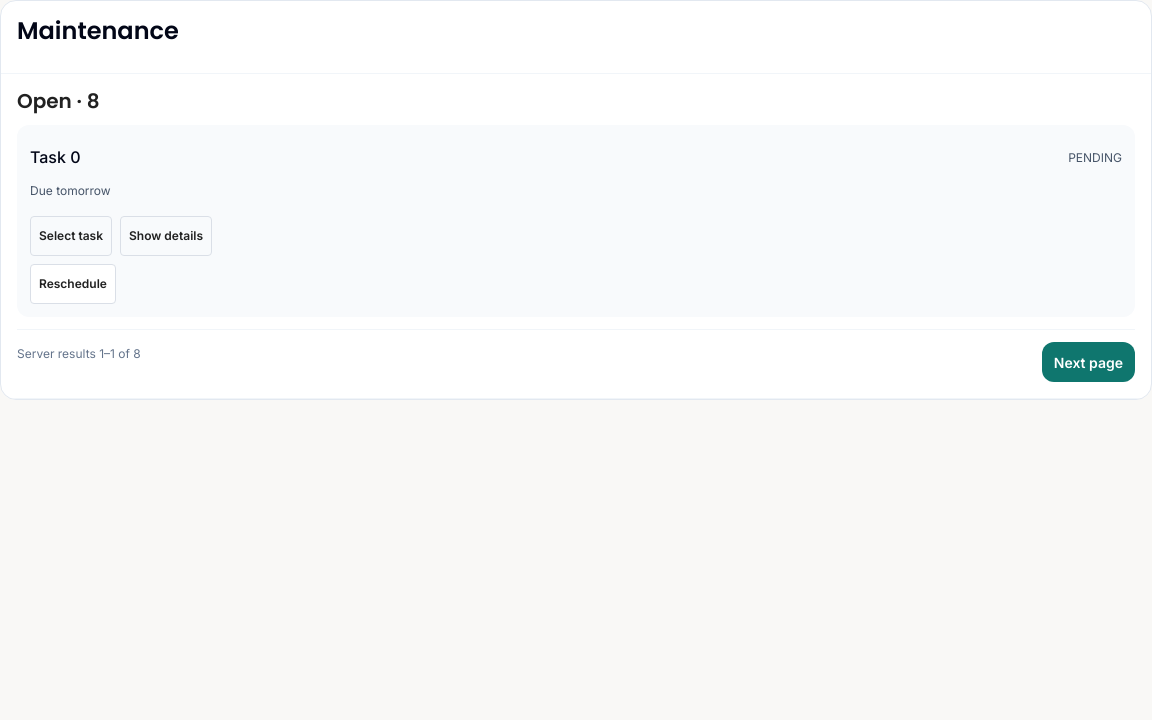
Scenario: task actions review, confirm, and show their receipt without leaving the workspace
Click the button "Task 0".
click(55, 158)  # box left=30, top=138, right=80, bottom=178
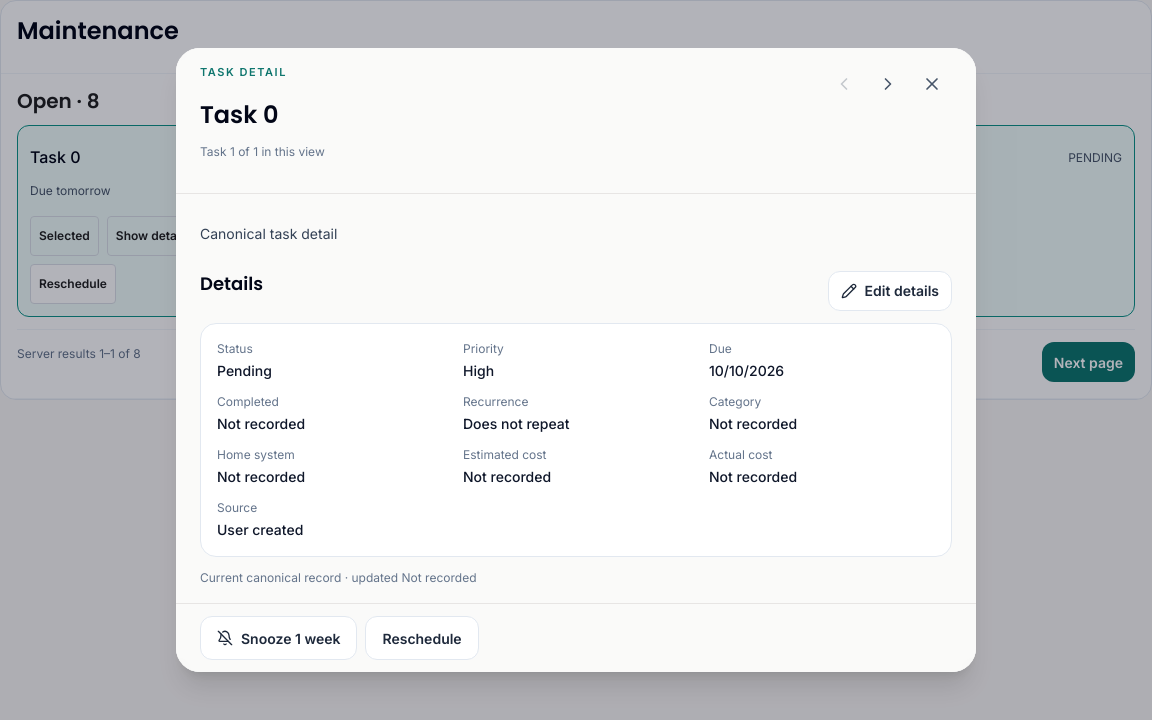
Now the button "Snooze 1 week" is shown
Click the button "Snooze 1 week".
click(279, 638)  # box left=200, top=616, right=358, bottom=660
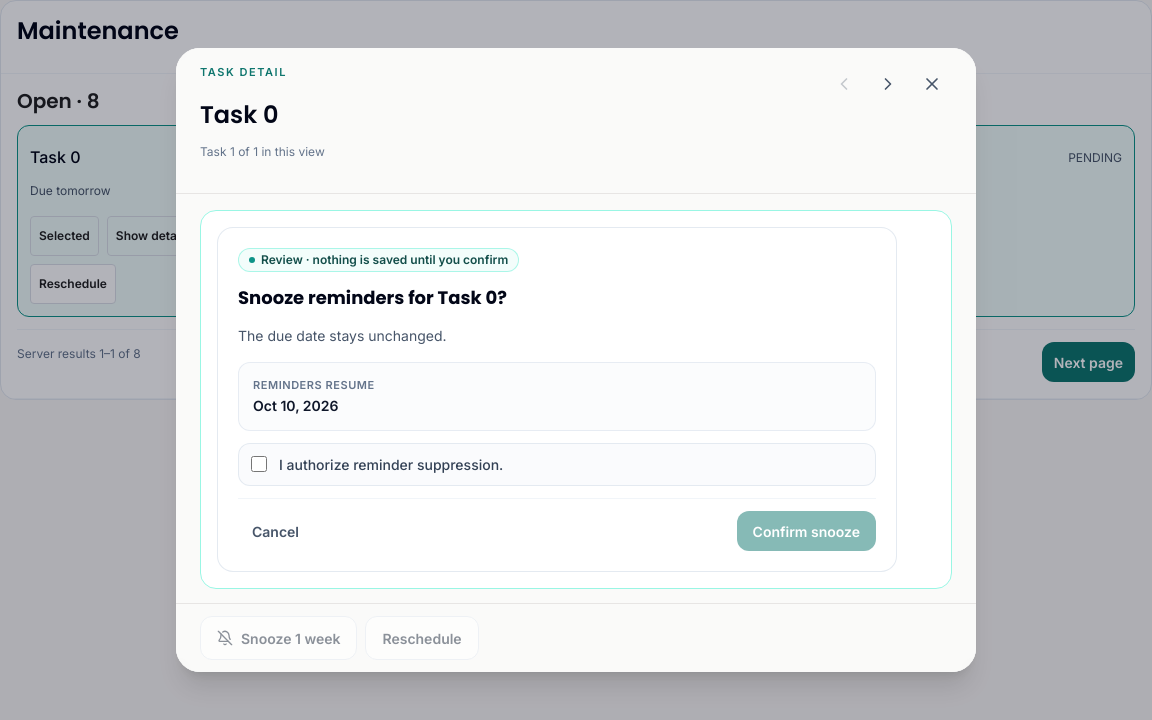
Now the dialog named "Task detail: Task 0" is shown
Now the heading "Snooze reminders for Task 0?" is shown, box left=238, top=285, right=507, bottom=310
Click the checkbox labelled "I authorize reminder suppression.".
click(259, 464)  # box left=251, top=456, right=267, bottom=472
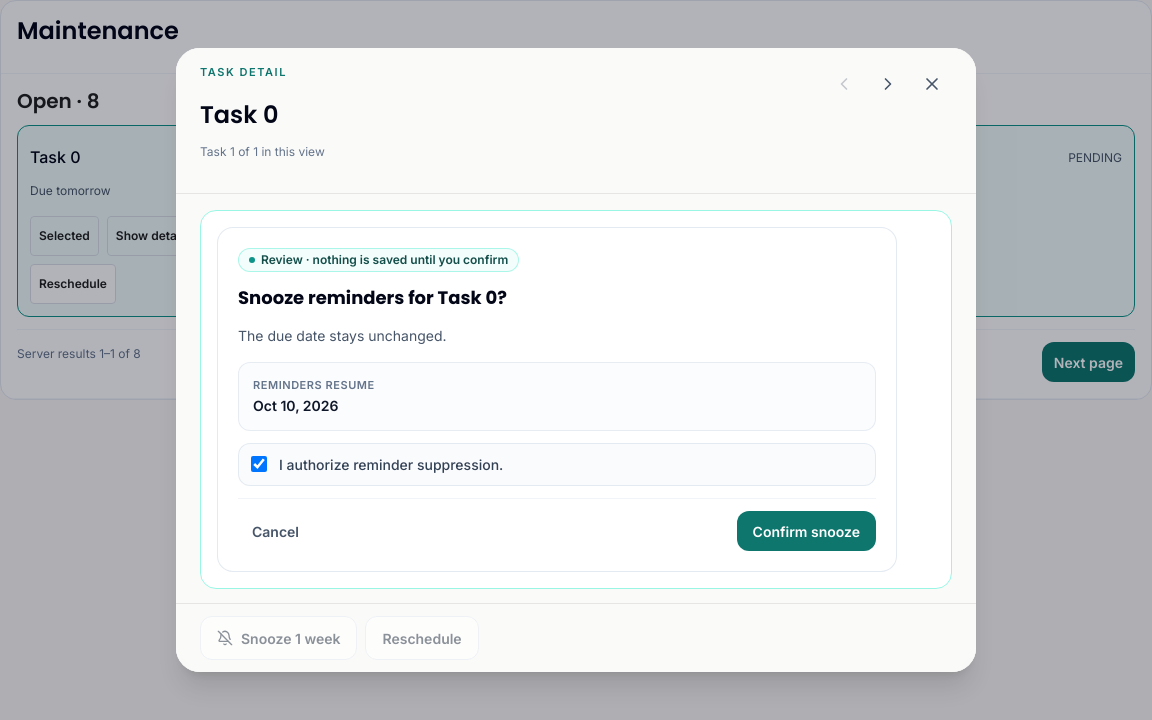
Click the button "Confirm snooze".
click(806, 532)  # box left=737, top=512, right=876, bottom=552
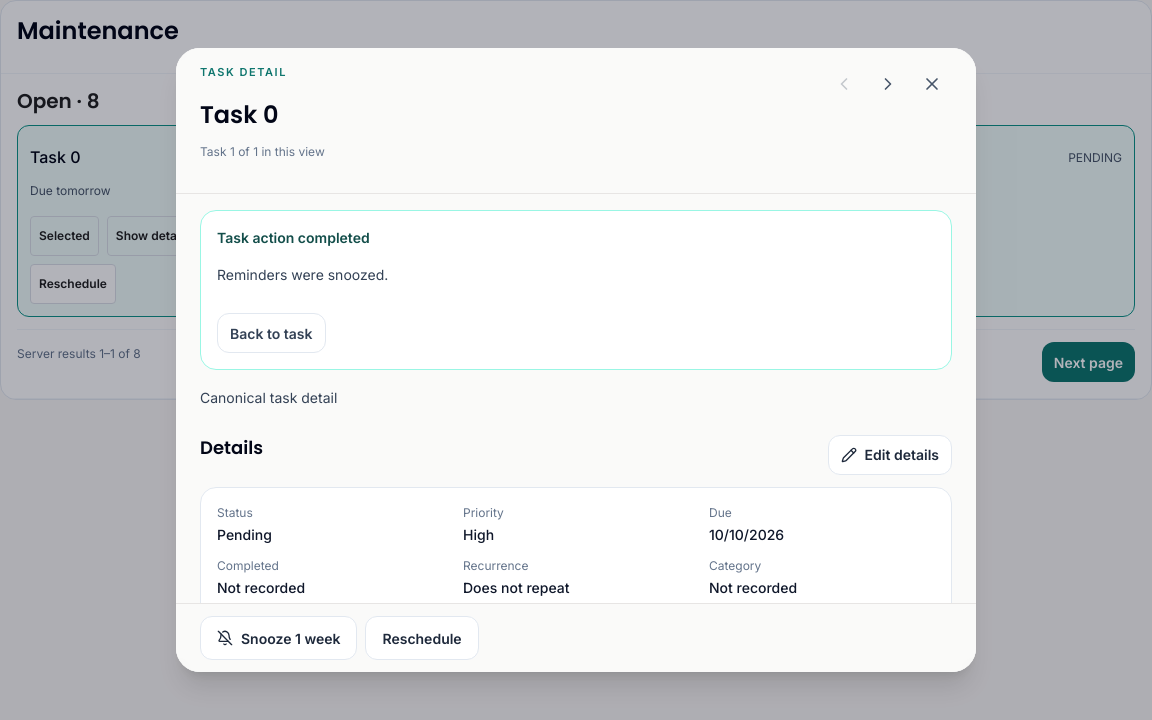
Now the dialog named "Task detail: Task 0" is shown
Now the text "Task action completed" is shown, box left=217, top=229, right=370, bottom=246
Now the text "Reminders were snoozed." is shown, box left=217, top=266, right=388, bottom=283
